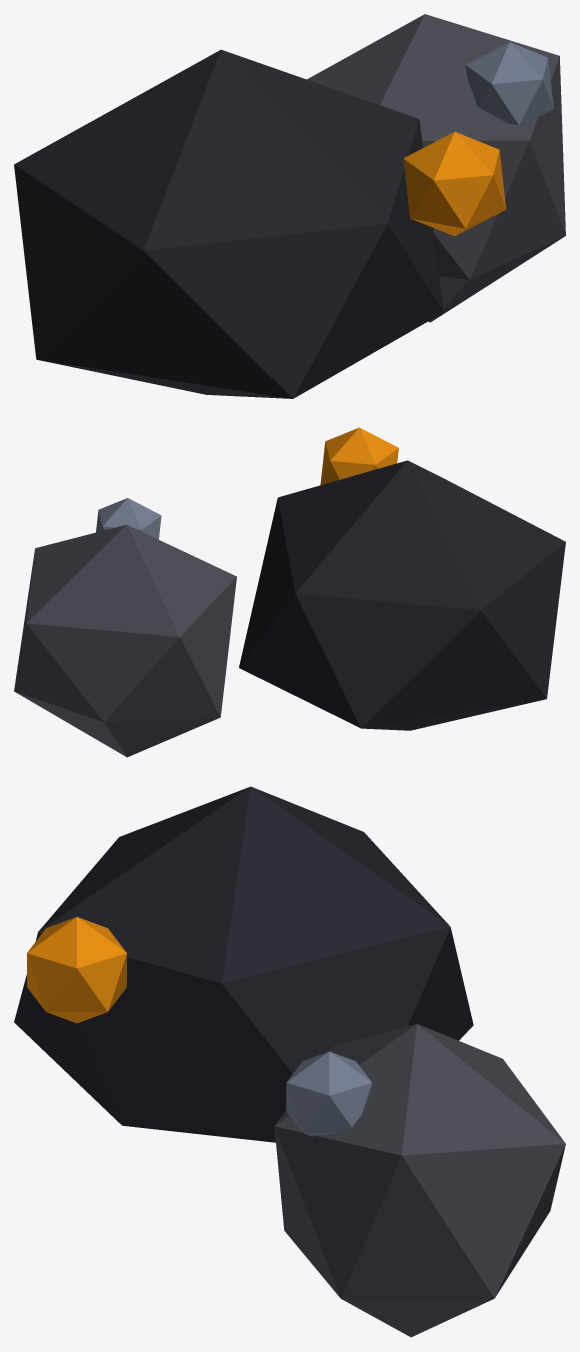
File: ore_rocks.obj
The picture shows the model from 3 angles, top to bottom: view 1: azimuth 30°, elevation 25°; view 2: azimuth 150°, elevation 25°; view 3: azimuth 270°, elevation 25°; orthographic projection. The views are drawn at different scales.
Parts seen in each view (by area): view 1: ore_rocks; view 2: ore_rocks; view 3: ore_rocks.
Part boxes in pixels (bbox=[...]): ore_rocks: bbox=[14, 14, 565, 398]; ore_rocks: bbox=[14, 427, 565, 757]; ore_rocks: bbox=[14, 786, 565, 1337].
Bounding box in the file's own units: 0.8331 × 0.5353 × 0.6563.
